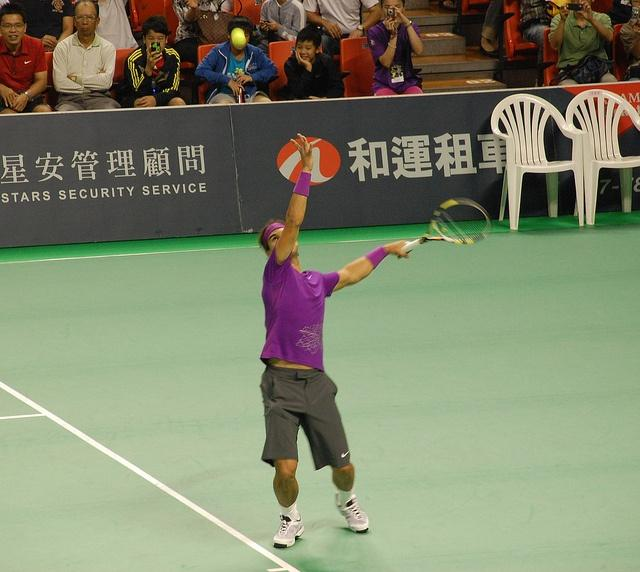Kursi: (488, 92, 585, 231), (565, 87, 639, 226)
